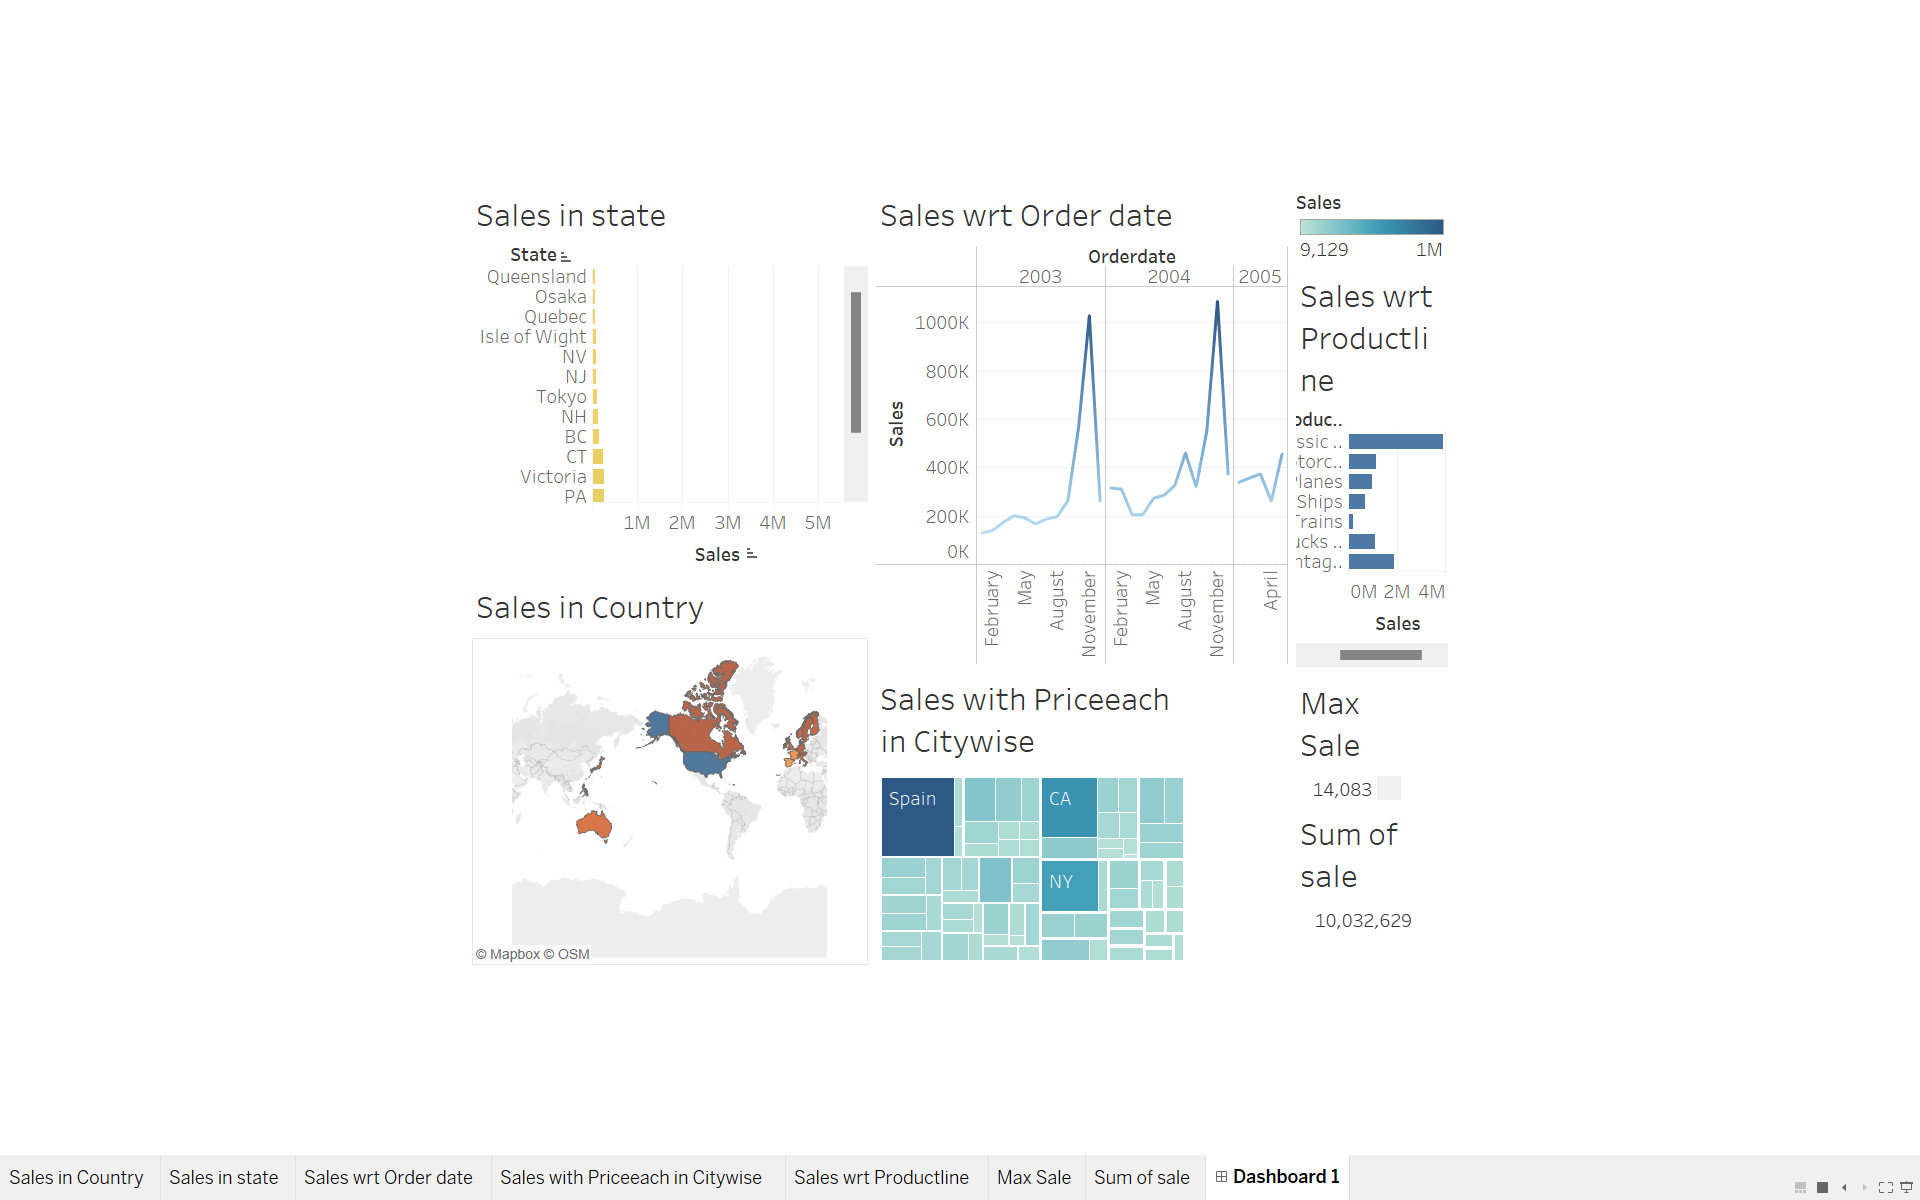

The dashboard page shown, as its layout file describes it:
{"tool":"tableau","page":{"name":"Dashboard 1","canvas":[1000,800],"ordinal":0},"visuals":[{"type":"worksheet","title":"Sales in state","mark":"Automatic","rows":["STATE"],"cols":["SALES"],"box":[8,8,404,392]},{"type":"worksheet","title":"Sales wrt Order date","mark":"Automatic","rows":["SALES"],"cols":["ORDERDATE","ORDERDATE"],"box":[412,8,420,484]},{"type":"legend","title":"Sales with Priceeach in Citywise","param":"[federated.0vss6zf0j3o7r512kmiwr1oxzp13].[sum:SALES:qk]","box":[832,8,160,81]},{"type":"worksheet","title":"Sales wrt Productline","mark":"Automatic","rows":["PRODUCTLINE"],"cols":["SALES"],"box":[832,89,160,407]},{"type":"worksheet","title":"Sales in Country","mark":"Automatic","box":[8,400,404,392]},{"type":"worksheet","title":"Sales with Priceeach in Citywise","mark":"Automatic","box":[412,492,420,300]},{"type":"worksheet","title":"Max Sale","mark":"Automatic","box":[832,496,160,131]},{"type":"worksheet","title":"Sum of sale","mark":"Automatic","box":[832,627,160,132]}]}

Visuals, with their boxes on the page's 1000x800 design canvas (x1, y1, x2, y2). These are canvas units, not pixel positions in the 1920x1200 screenshot, which may show the page scaled, cropped or inside an application window:
"Sales in state" worksheet: <box>8,8,412,400</box>
"Sales wrt Order date" worksheet: <box>412,8,832,492</box>
"Sales with Priceeach in Citywise" legend: <box>832,8,992,89</box>
"Sales wrt Productline" worksheet: <box>832,89,992,496</box>
"Sales in Country" worksheet: <box>8,400,412,792</box>
"Sales with Priceeach in Citywise" worksheet: <box>412,492,832,792</box>
"Max Sale" worksheet: <box>832,496,992,627</box>
"Sum of sale" worksheet: <box>832,627,992,759</box>
